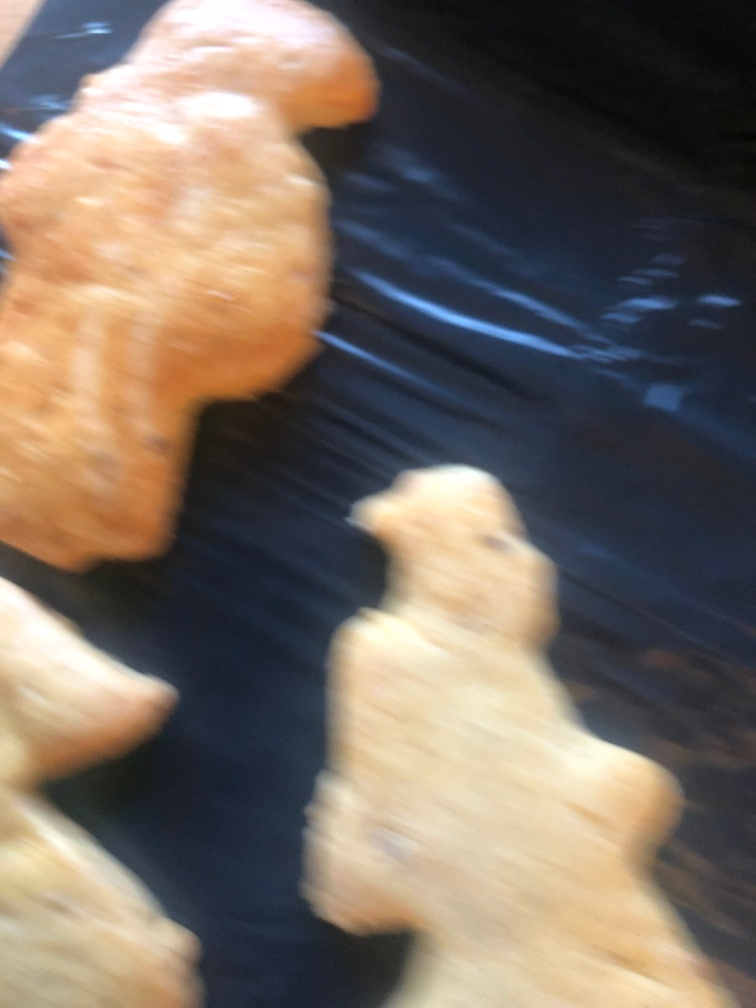angel: (1, 568, 224, 1004)
king mage: (302, 463, 752, 1008)
santa claus: (5, 1, 377, 576)
